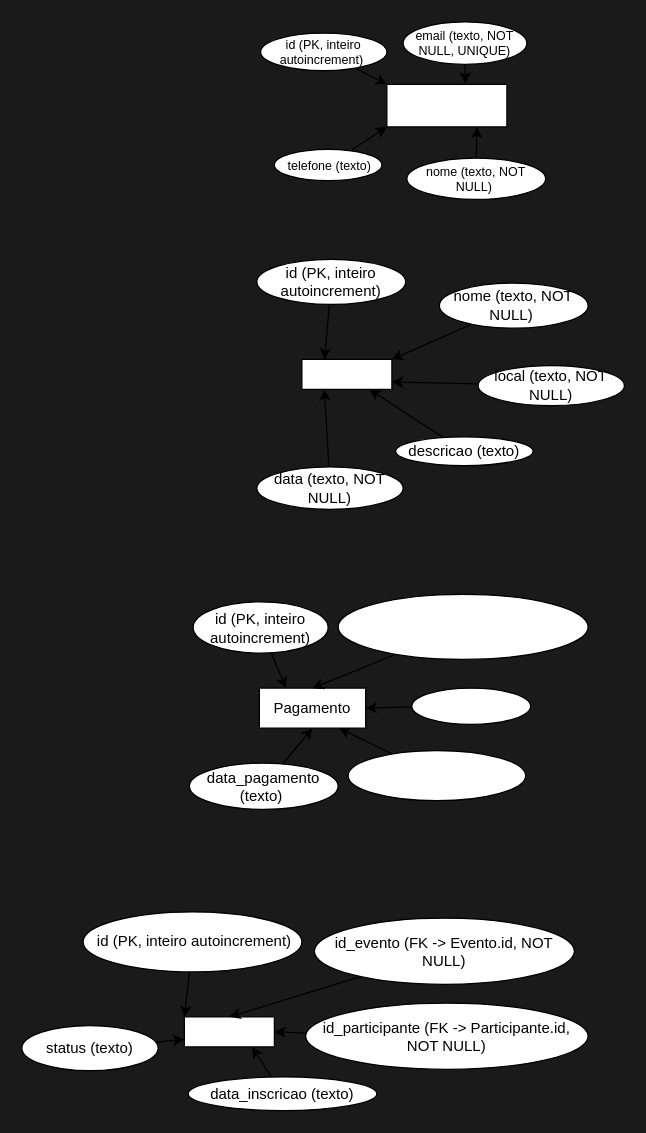
The diagram is 646 pixels wide and 1133 high, and some of its shapes have lost their labels. The box of each missing label's shape, as (x1, y1, x2, y2) in pixels:
Evento: (301, 358, 392, 389)
id_inscricao (FK -> Inscricao.id, UNIQUE para garantir 1:1): (337, 593, 588, 659)
Inscrição: (183, 1016, 274, 1047)
Participante: (386, 83, 507, 127)
status (texto — ex.: "pago", "pendente"): (347, 749, 526, 801)
valor (real): (411, 687, 531, 724)
